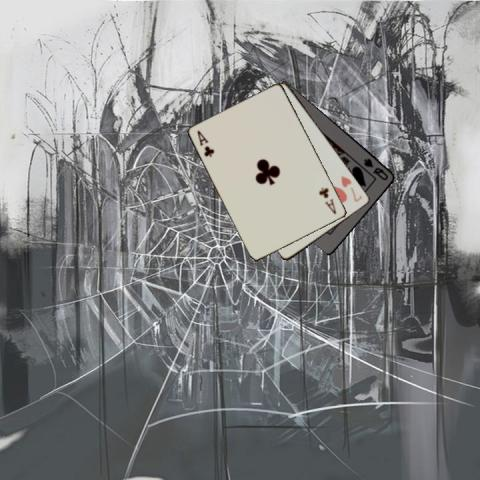7h: (338, 173, 364, 203)
Ac: (316, 185, 338, 215), (195, 127, 216, 158)
Qs: (361, 155, 390, 182)
